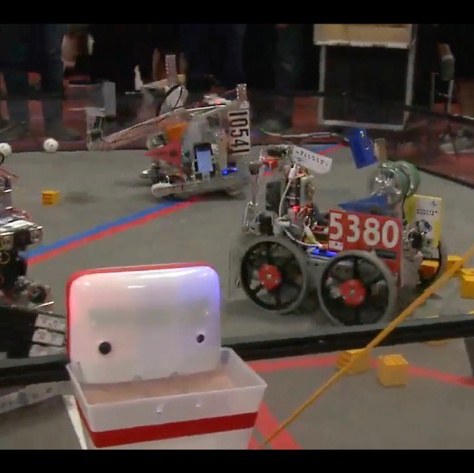robot: (227, 134, 453, 335), (89, 84, 254, 198), (0, 142, 68, 410)
